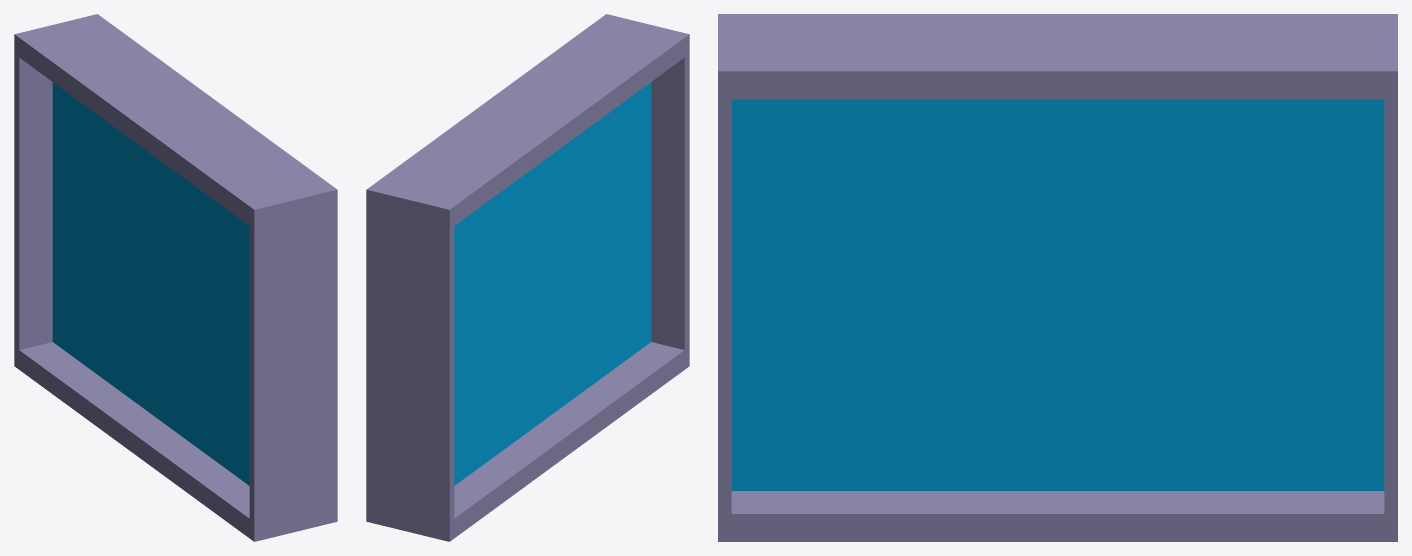
The model's file is GlassWall.fbx.
The picture shows the model from 3 angles, left to right: view 1: azimuth 30°, elevation 25°; view 2: azimuth 150°, elevation 25°; view 3: azimuth 270°, elevation 25°; orthographic projection. The views are drawn at different scales.
Parts seen in each view (by area): view 1: Wall; view 2: Wall; view 3: Wall.
Part boxes in pixels (x1,y1,x2,y2): Wall: (14,14,337,541); Wall: (366,14,689,541); Wall: (718,14,1397,541).
Size of the model in its own units: 120 by 458 by 600.
